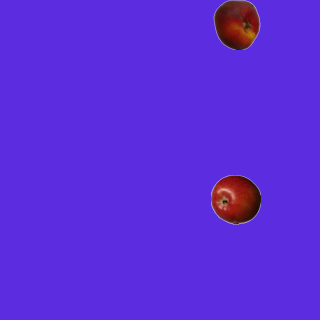Apple Braeburn: (210, 174, 260, 224)
Nectarine Flat: (211, 0, 261, 49)
